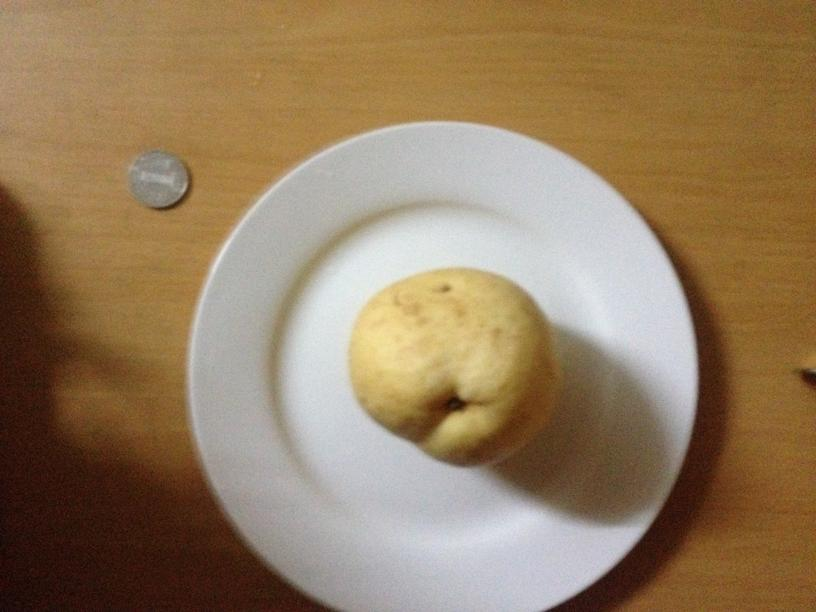coin: (125, 147, 189, 208)
pear: (350, 265, 554, 471)
